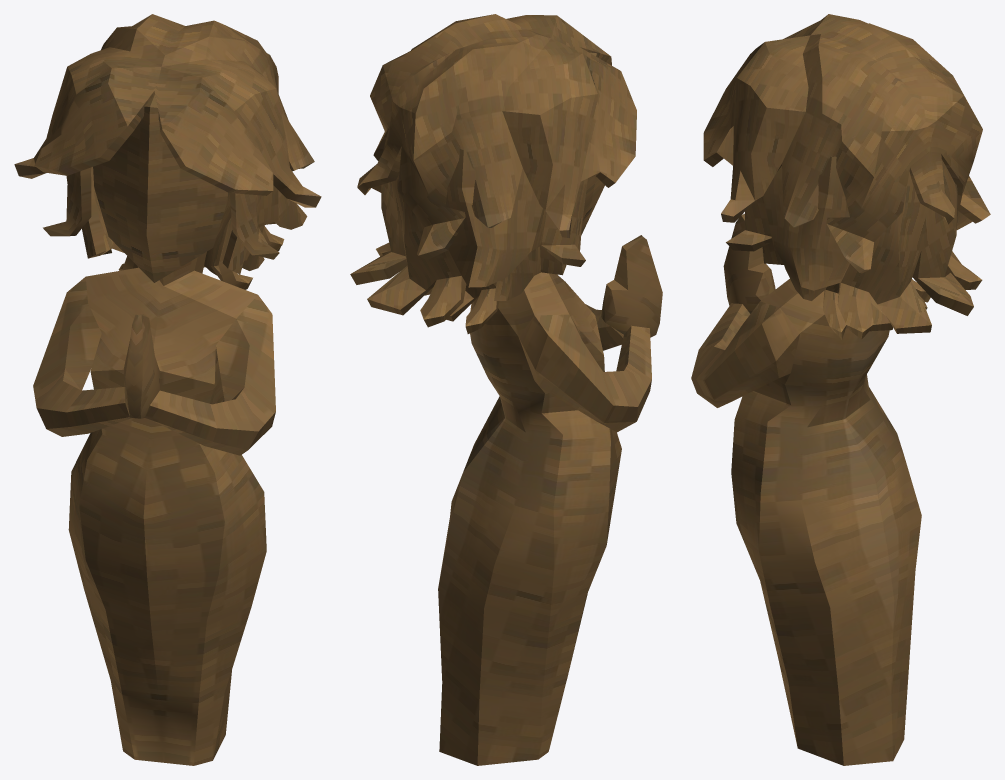
The model's file is dancingstatue.glb.
3 renders of one model, left to right at view 1: azimuth 30°, elevation 25°; view 2: azimuth 150°, elevation 25°; view 3: azimuth 270°, elevation 25°, orthographic.
Visible parts, largest first — view 1: dANCING STATUE; view 2: dANCING STATUE; view 3: dANCING STATUE.
Boxes of the visible parts, x1,y1,x2,y2 form: dANCING STATUE: (14, 14, 321, 765); dANCING STATUE: (350, 14, 662, 765); dANCING STATUE: (691, 14, 990, 765).
Bounding box in the file's own units: 2.16 × 5.62 × 2.16.
Materials: 1 (1 with a texture image).
